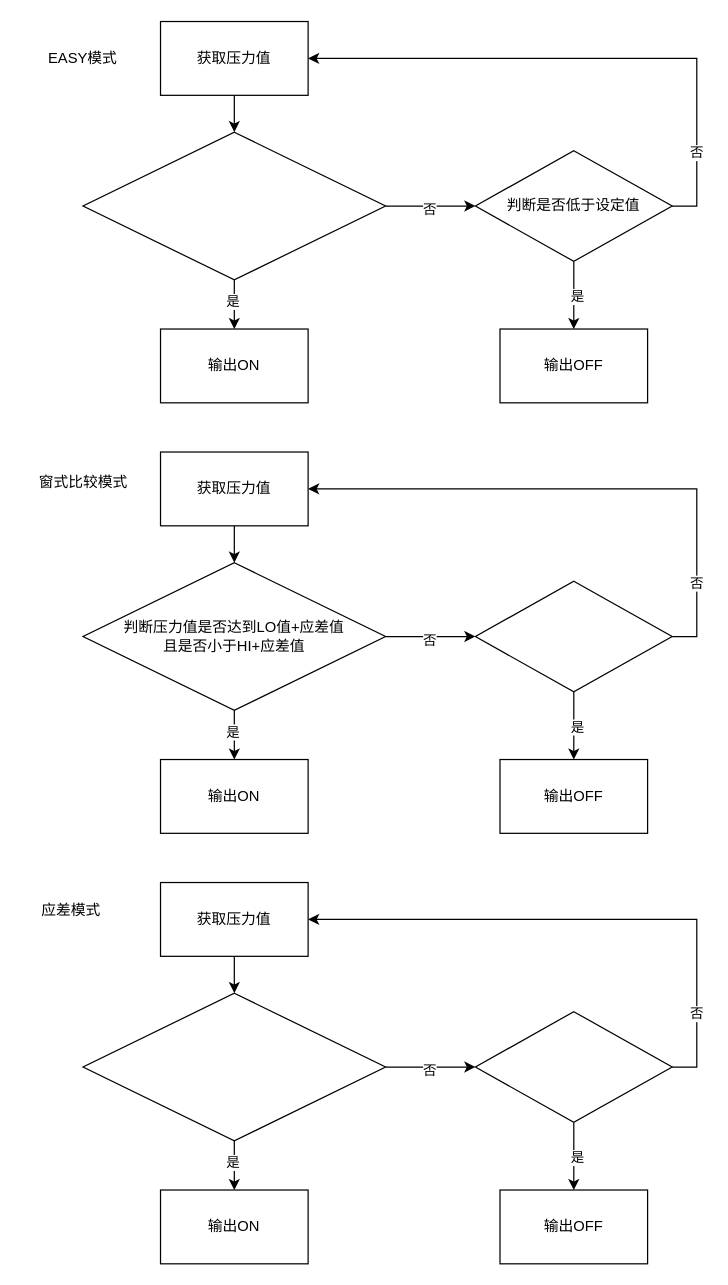
This 728x1285 diagram has some shape labels left out. The centre of each missing label's shape, as x and y in pixels:
"判断压力值是否达到设定值+应差值" belongs at (x=234, y=205).
"判断压力是否大于LO值 或压力小于Hi值" belongs at (x=234, y=1066).
"判断是否大于HI 或是否小于LO值" belongs at (x=573, y=1066).
"判断是否大于HI+应差值 或是否小于LO值" belongs at (x=573, y=636).
